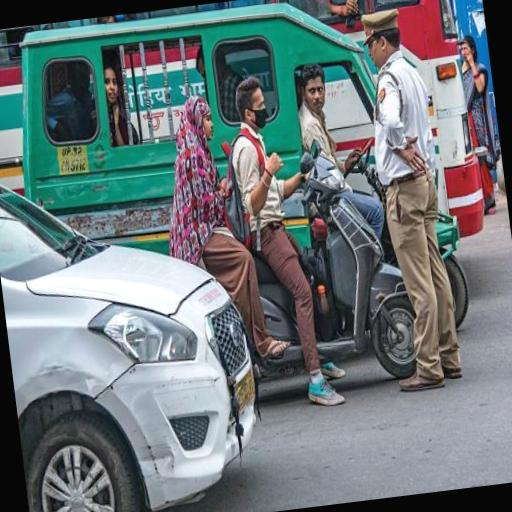no helmet: (207, 42, 368, 412)
